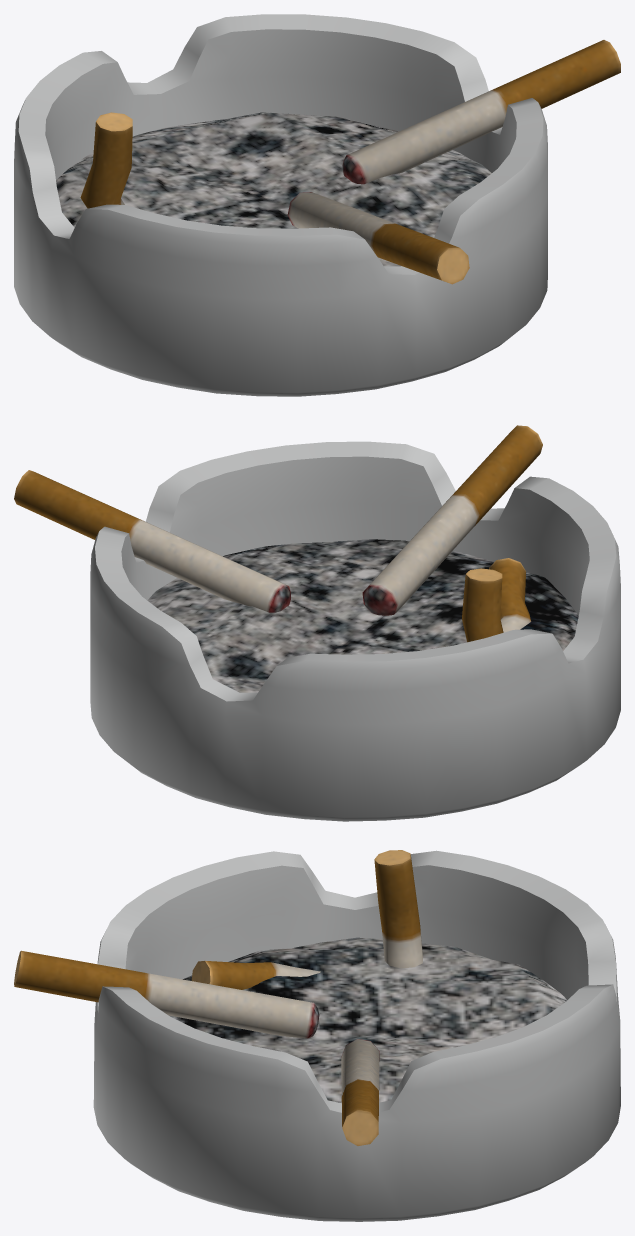
The model's file is Prop_Ashtray_x1.fbx.
3 renders of one model, top to bottom at view 1: azimuth 30°, elevation 25°; view 2: azimuth 150°, elevation 25°; view 3: azimuth 270°, elevation 25°, orthographic.
Visible parts, largest first — view 1: Prop_Ashtray_x1; view 2: Prop_Ashtray_x1; view 3: Prop_Ashtray_x1.
Boxes of the visible parts, box(x1,y1,x2,y2) form: Prop_Ashtray_x1: box(14, 14, 620, 396); Prop_Ashtray_x1: box(14, 425, 620, 821); Prop_Ashtray_x1: box(14, 850, 620, 1221).
Bounding box in the file's own units: 6.79 × 2.18 × 6.39.
